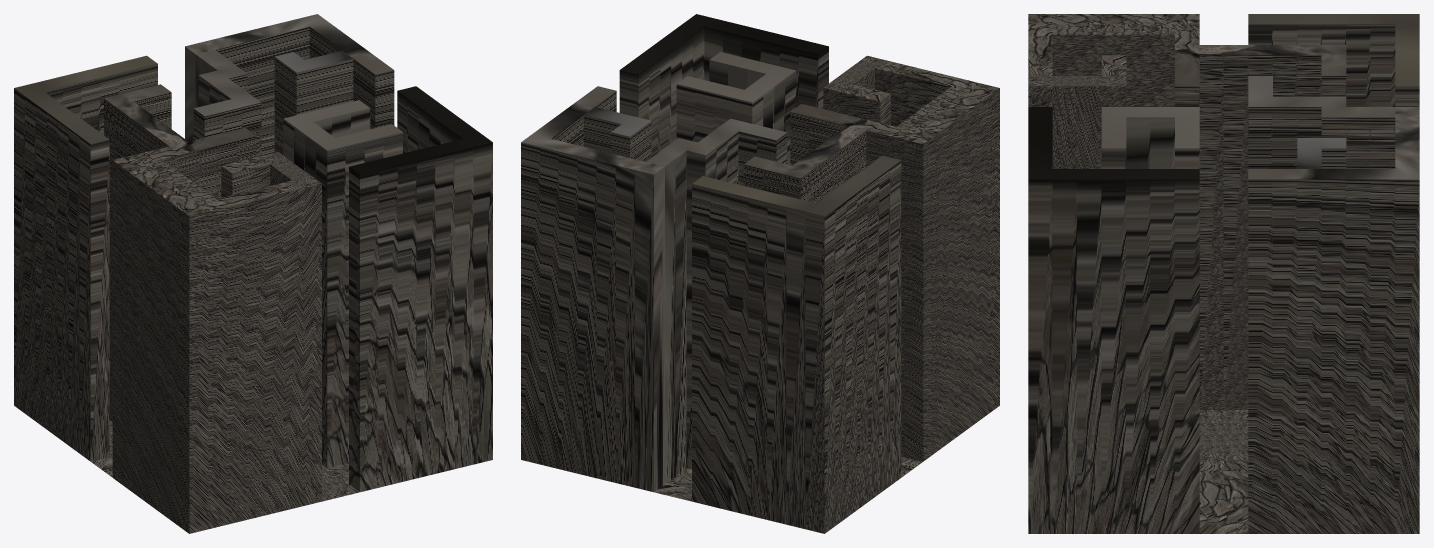
File: AllWayTempTile.fbx
3 views of the same model, side by side, from view 1: azimuth 30°, elevation 25°; view 2: azimuth 150°, elevation 25°; view 3: azimuth 270°, elevation 25° (orthographic). The views are drawn at different scales.
Parts seen in each view (by area): view 1: Plane; view 2: Plane; view 3: Plane.
Boxes of the visible parts, bbox=[...] form: Plane: bbox=[14, 14, 492, 533]; Plane: bbox=[521, 14, 999, 533]; Plane: bbox=[1028, 14, 1419, 533].
Bounding box in the file's own units: 1600 × 1600 × 1600.
